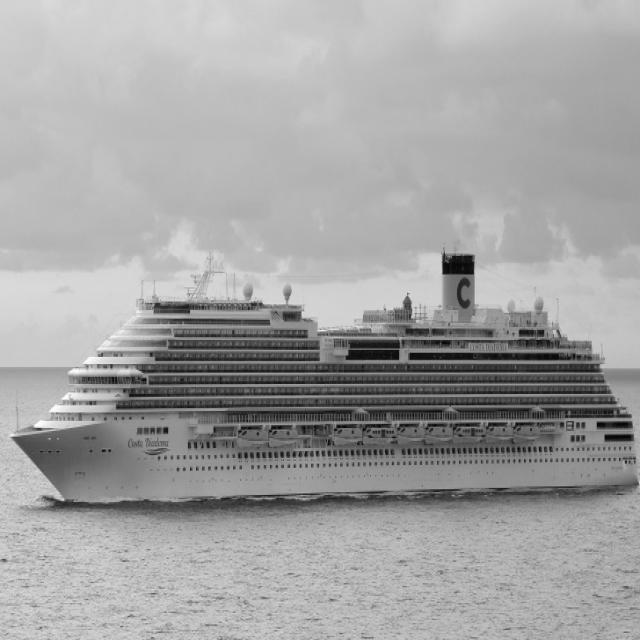cruises: (4, 249, 640, 521)
